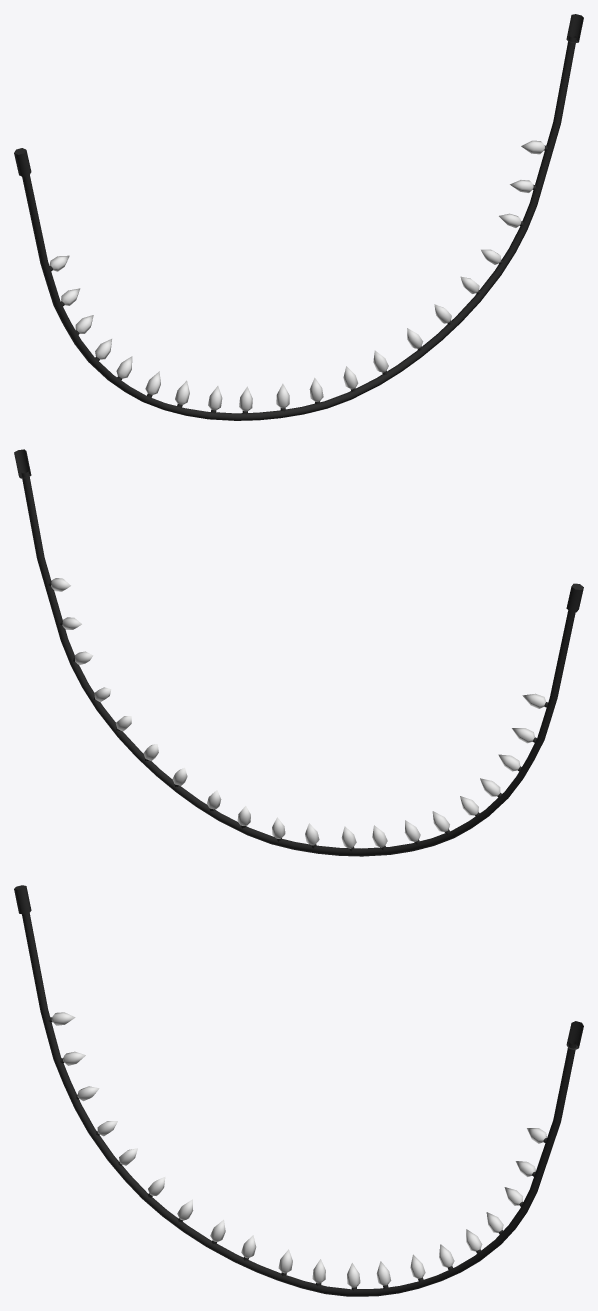
File: ChristmasChainLight_08.fbx
3 views of the same model, one above another, from view 1: azimuth 30°, elevation 25°; view 2: azimuth 150°, elevation 25°; view 3: azimuth 330°, elevation 25° (orthographic).
Visible parts, largest first — view 1: ChristmasChainLight_08; view 2: ChristmasChainLight_08; view 3: ChristmasChainLight_08.
Part boxes in pixels (bbox=[...]): ChristmasChainLight_08: bbox=[14, 14, 583, 420]; ChristmasChainLight_08: bbox=[14, 449, 583, 856]; ChristmasChainLight_08: bbox=[14, 885, 583, 1296].
Bounding box in the file's own units: 1.61 × 0.9044 × 0.0408.
